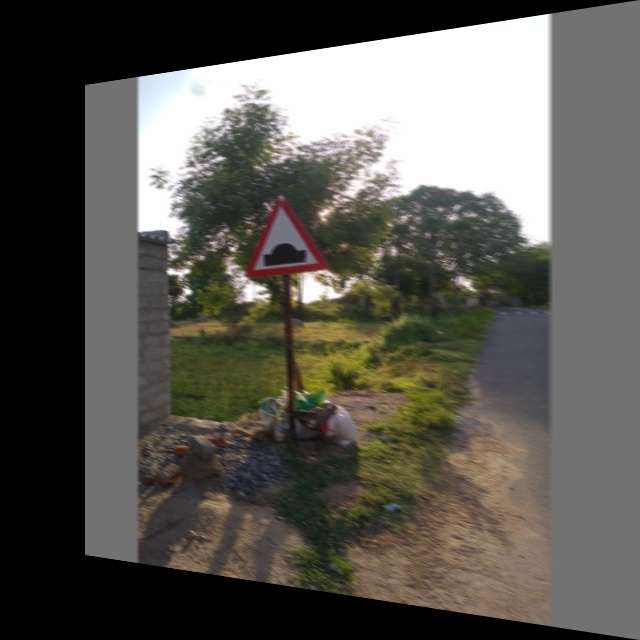Hump_or_Rough_Road: (248, 194, 327, 277)
